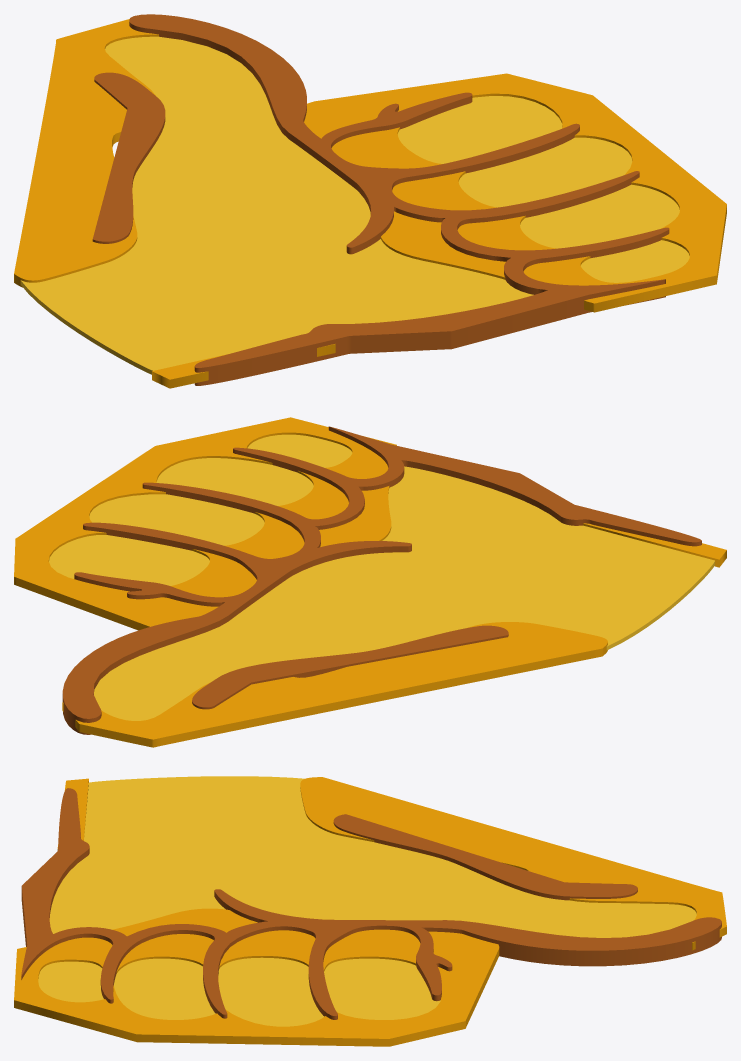
The model's file is emoji_u1f44d.glb.
The picture shows the model from 3 angles, top to bottom: view 1: azimuth 30°, elevation 25°; view 2: azimuth 150°, elevation 25°; view 3: azimuth 270°, elevation 25°; orthographic projection. The views are drawn at different scales.
Visible parts, largest first — view 1: emoji_u1f44d; view 2: emoji_u1f44d; view 3: emoji_u1f44d.
Part boxes in pixels (x1,y1,x2,y2): emoji_u1f44d: (14,14,726,388); emoji_u1f44d: (14,417,726,747); emoji_u1f44d: (14,776,726,1046).
Bounding box in the file's own units: 0.0292 × 0.0008 × 0.0332.
